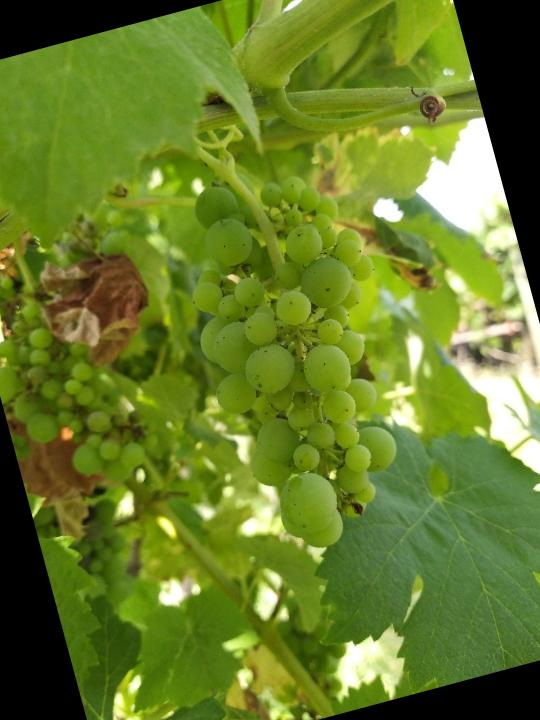grape: (152, 143, 444, 566)
